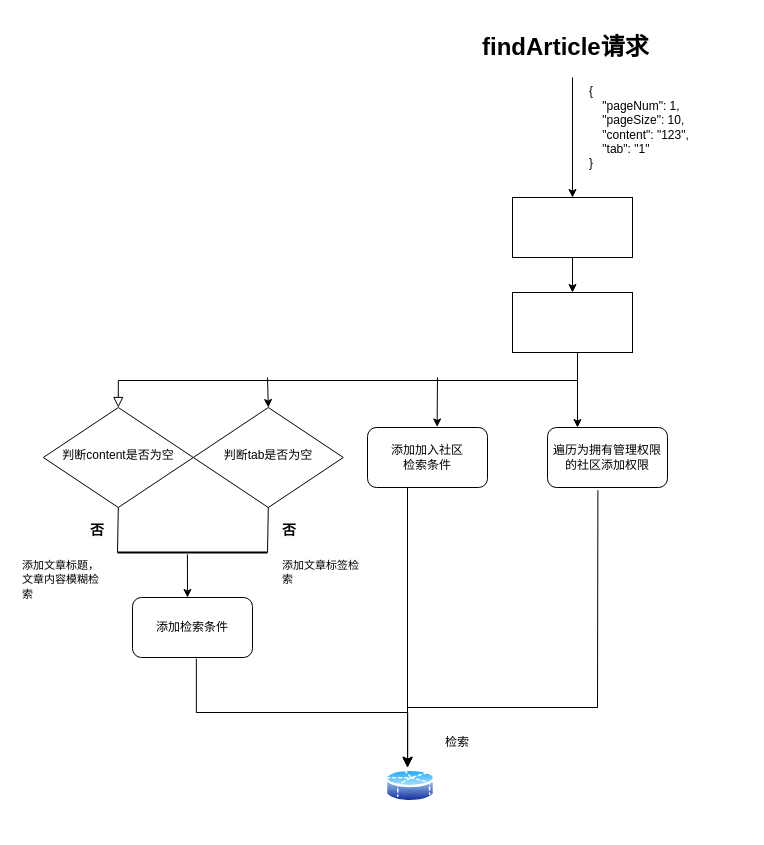
The diagram is 764 pixels wide and 845 high, and some of its shapes have lost their labels. The shapes that lost their labels are listed below. From the top down, each one's centre as x and y in pixels, then its label:
At point 572,227: "查询用户管理权限".
At point 572,322: "查询用户加入社区".
At point 410,785: "数据库".
